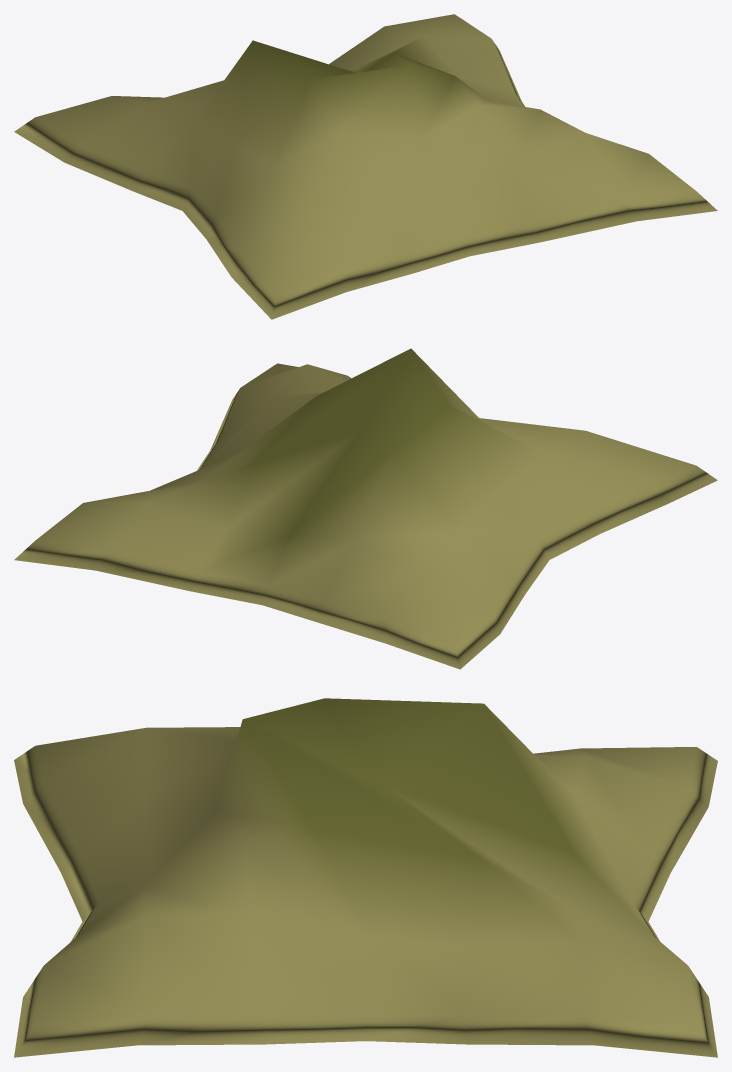
Rendered from Dirty_Tissue.fbx.
The picture shows the model from 3 angles, top to bottom: view 1: azimuth 30°, elevation 25°; view 2: azimuth 150°, elevation 25°; view 3: azimuth 270°, elevation 25°; orthographic projection. The views are drawn at different scales.
Visible parts, largest first — view 1: pPlane3; view 2: pPlane3; view 3: pPlane3.
Boxes of the visible parts, <box> form: pPlane3: <box>14,14,717,319</box>; pPlane3: <box>14,348,717,669</box>; pPlane3: <box>14,698,717,1057</box>.
Size of the model in its own units: 20.45 by 6.49 by 20.45.
